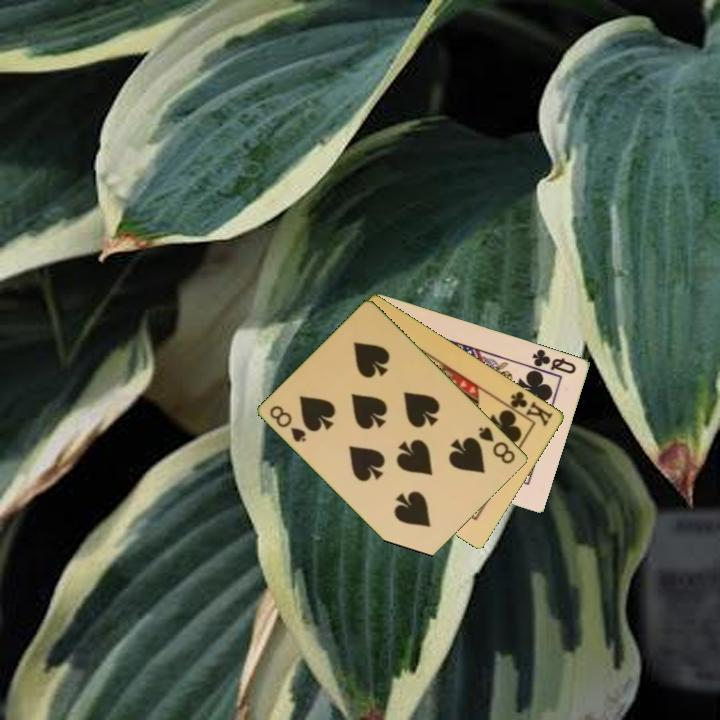8s: (475, 423, 518, 467), (267, 402, 309, 445)
Kc: (501, 387, 556, 430)
Qc: (529, 345, 579, 377)
